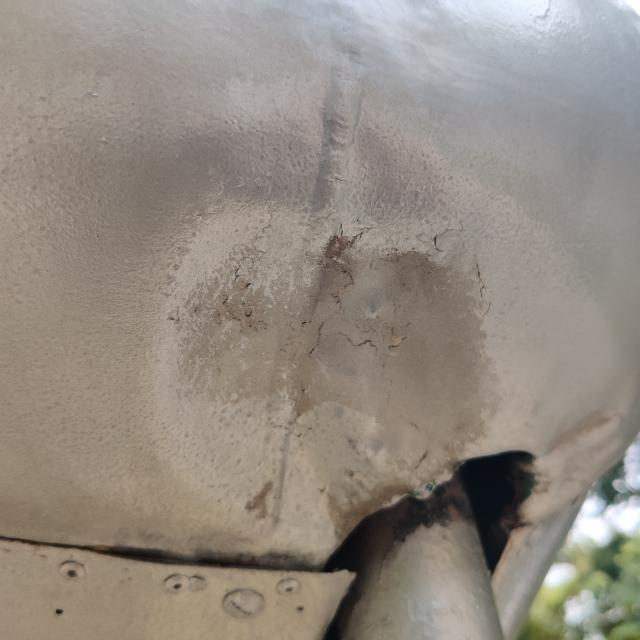dent: (105, 156, 529, 574), (533, 386, 634, 480)
